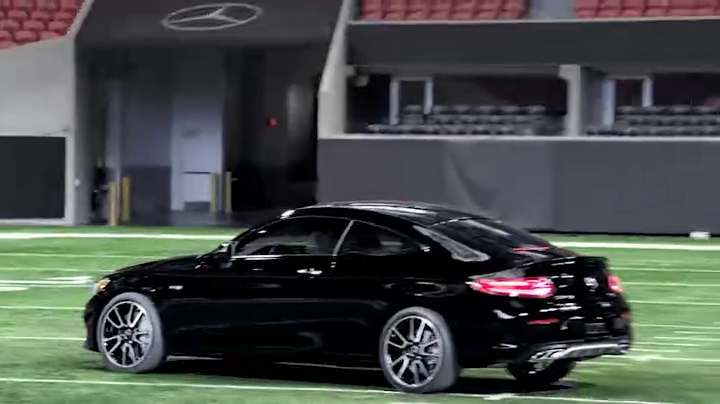amg: (86, 200, 638, 391)
